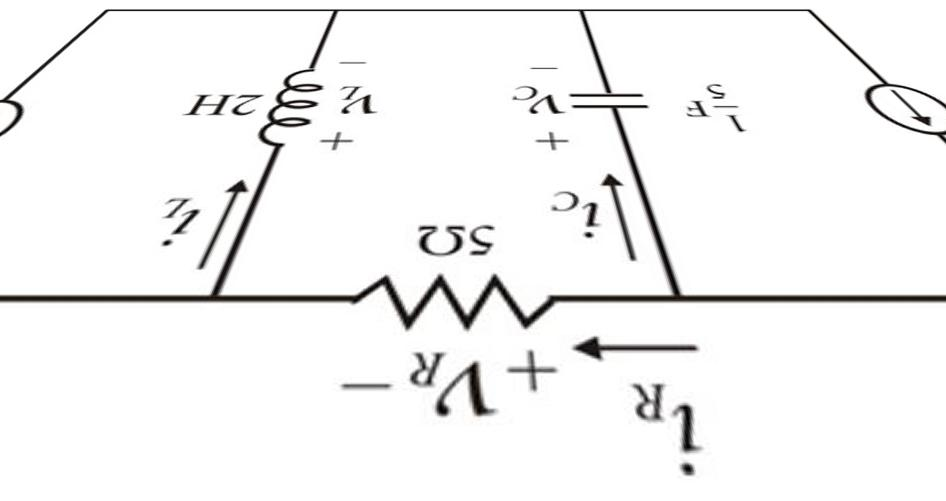inductor: (251, 56, 329, 153)
